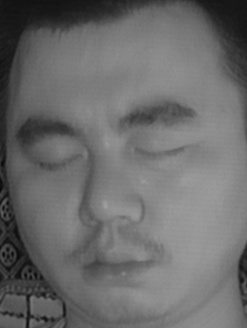blink: (31, 140, 87, 183), (133, 129, 184, 169)
mouth: (75, 232, 164, 289)
